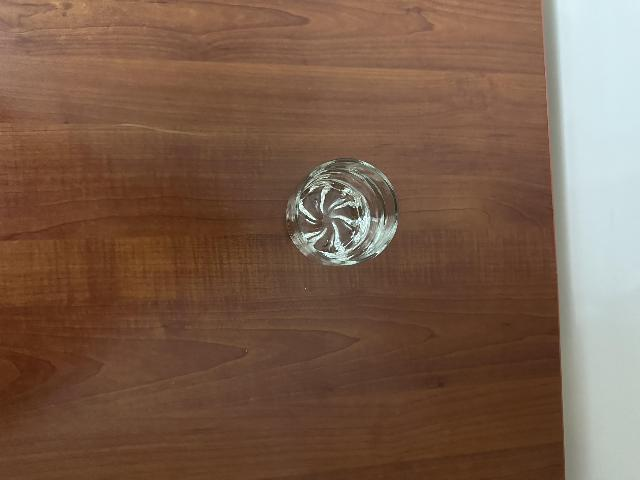Cam: (283, 140, 414, 268)
